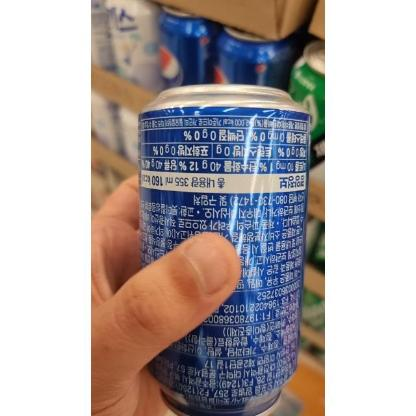Can: (140, 84, 312, 416)
